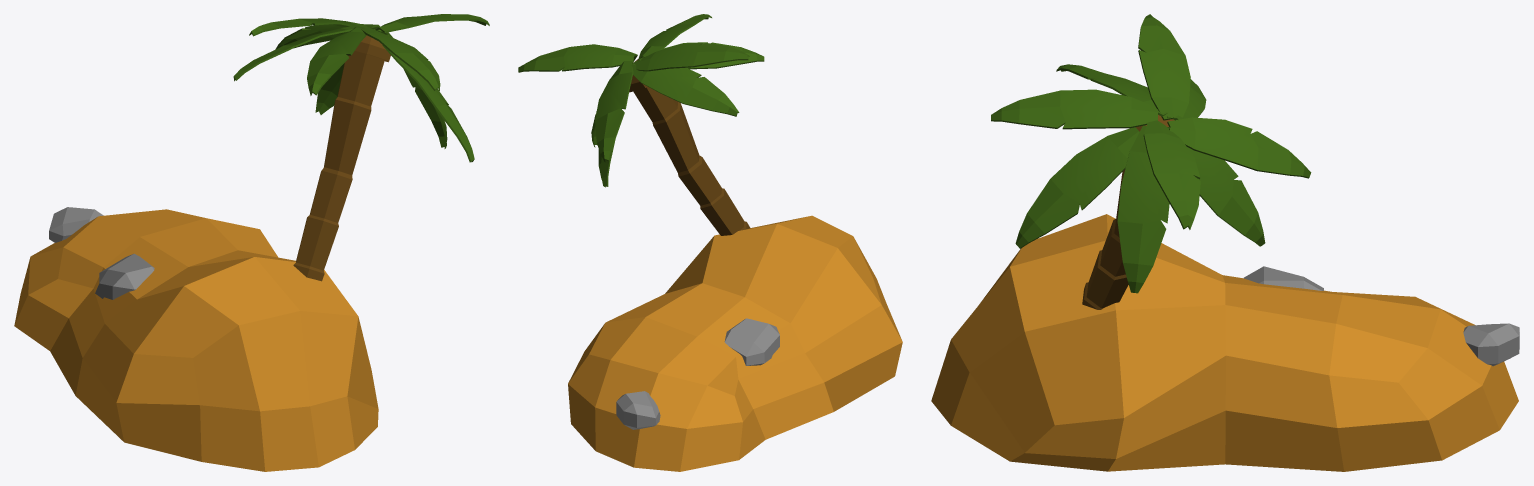
Rendered from Mesh_Island3.fbx.
The picture shows the model from 3 angles, left to right: view 1: azimuth 30°, elevation 25°; view 2: azimuth 150°, elevation 25°; view 3: azimuth 270°, elevation 25°; orthographic projection. The views are drawn at different scales.
Parts seen in each view (by area): view 1: Mesh_Island3; view 2: Mesh_Island3; view 3: Mesh_Island3.
Part boxes in pixels (left/top/right/bottom): Mesh_Island3: left=14, top=14, right=489, bottom=471; Mesh_Island3: left=518, top=14, right=902, bottom=471; Mesh_Island3: left=931, top=14, right=1519, bottom=471.
Bounding box in the file's own units: 531 × 453 × 583.
Materials: 1 (1 with a texture image).
